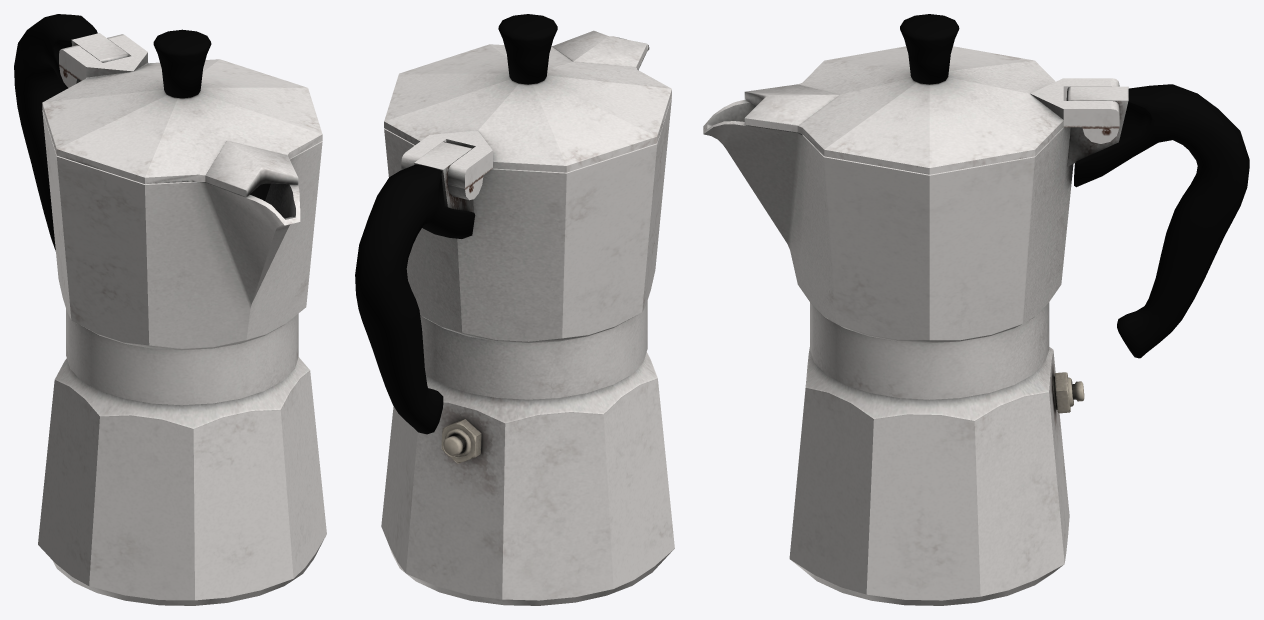
File: moka.obj
The picture shows the model from 3 angles, left to right: view 1: azimuth 30°, elevation 25°; view 2: azimuth 150°, elevation 25°; view 3: azimuth 270°, elevation 25°; orthographic projection. The views are drawn at different scales.
Parts seen in each view (by area): view 1: Metal, Polymer; view 2: Metal, Polymer; view 3: Metal, Polymer.
Boxes of the visible parts, left/top/right/bottom form: Metal: left=38, top=33, right=326, bottom=605; Polymer: left=14, top=14, right=211, bottom=251; Metal: left=381, top=30, right=674, bottom=605; Polymer: left=355, top=14, right=557, bottom=434; Metal: left=703, top=46, right=1128, bottom=605; Polymer: left=900, top=14, right=1249, bottom=358.
Size of the model in its own units: 3.17 by 6.16 by 5.81.
2 materials, 1 textured.
